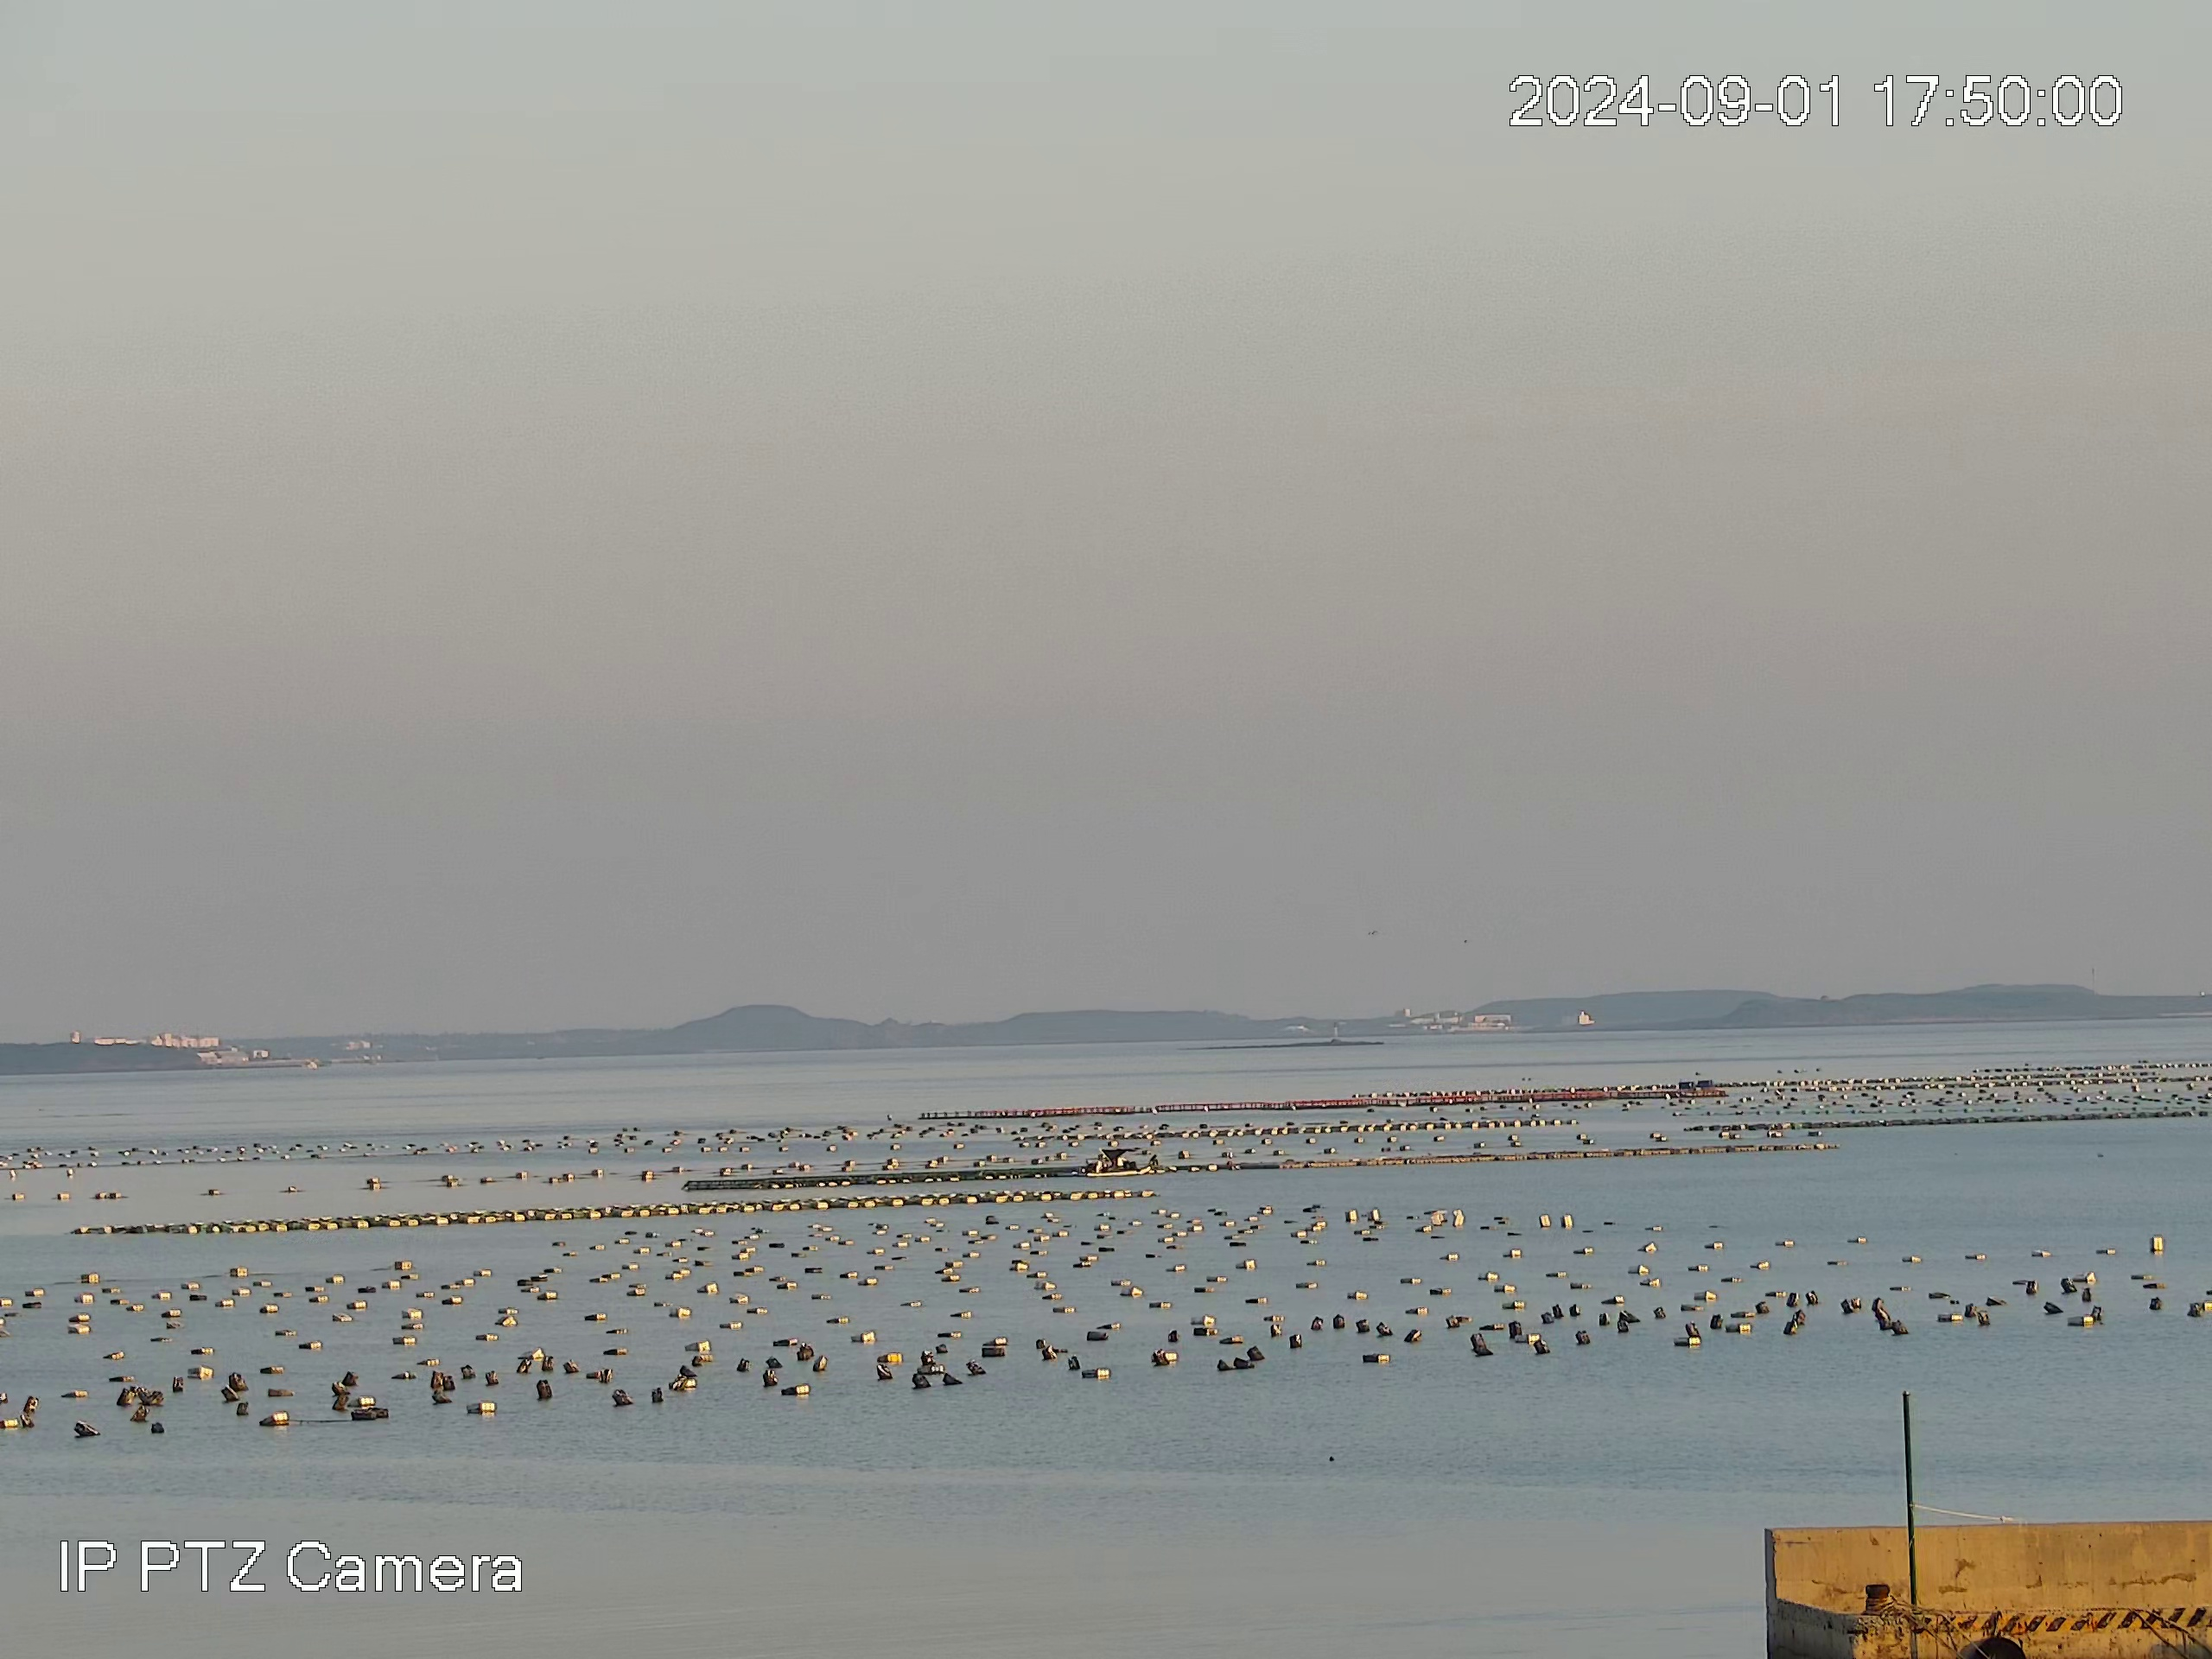boat: (1086, 1143, 1149, 1178)
